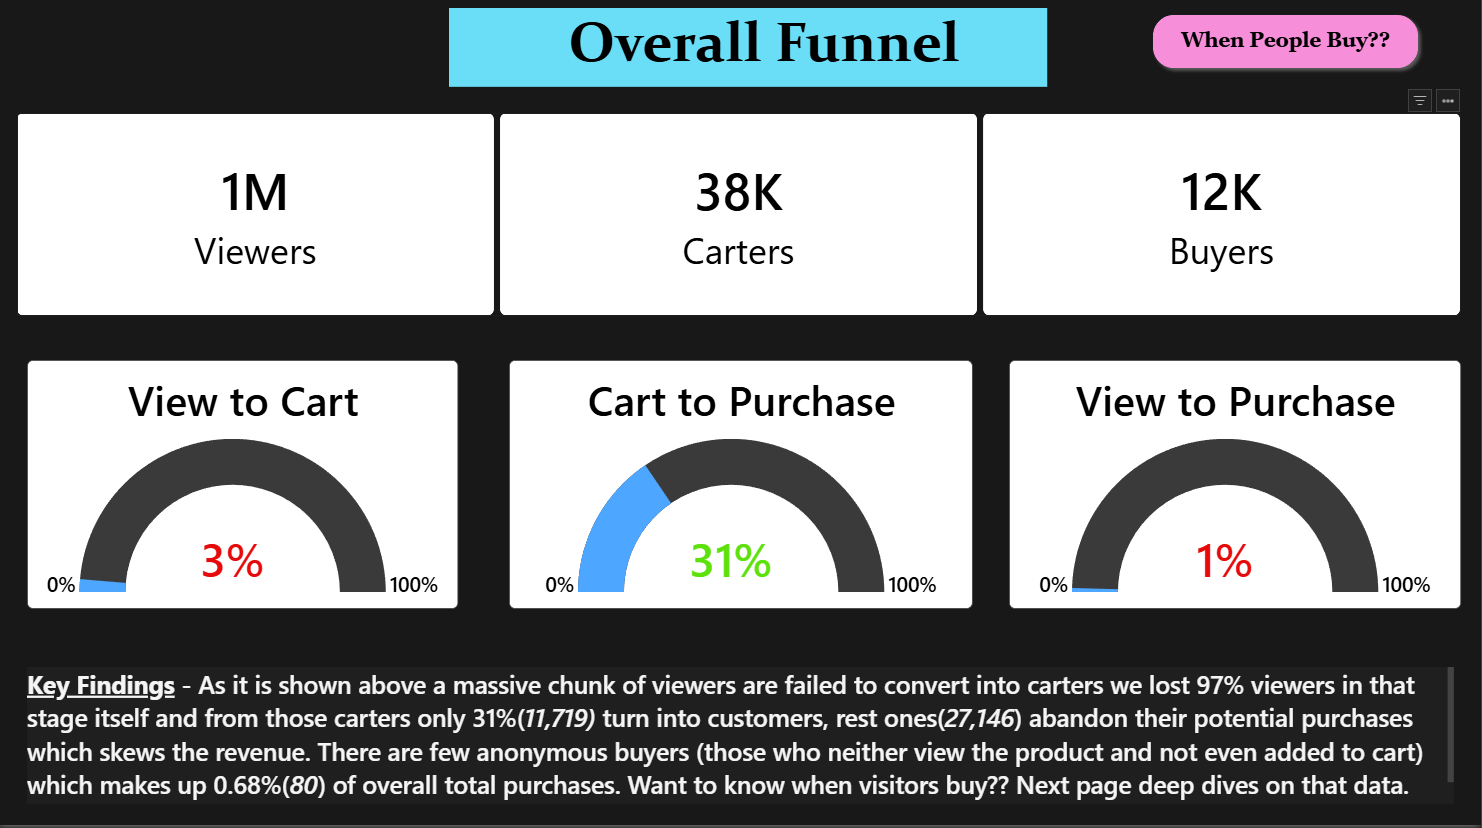

The dashboard page shown, as its layout file describes it:
{"tool":"powerbi","page":{"name":"Funnel Overview","canvas":[1920,1080],"ordinal":0},"visuals":[{"type":"cardVisual","fields":{"Data":["Sum(funnel_overall.viewers)","Sum(funnel_overall.carters)","Sum(funnel_overall.buyers)"]},"box":[25.9,157.8,1868.2,262.6],"z":0},{"type":"gauge","title":"View to Cart  ","fields":{"Y":["_Measures.View to cart %"]},"box":[38.8,477.4,557.6,322.2],"z":1000},{"type":"gauge","fields":{"Y":["_Measures.Cart to Purchase"]},"box":[662.4,477.4,600.3,322.2],"z":2000},{"type":"gauge","fields":{"Y":["_Measures.View to Purchase"]},"box":[1309.3,477.4,584.8,322.2],"z":3000},{"type":"textbox","box":[38.8,874.6,1846.3,177.3],"z":4000},{"type":"textbox","box":[584.8,22,773.7,102.2],"z":5000},{"type":"actionButton","box":[1486.6,22,361,86.7],"z":6000}]}

Visuals, with their boxes in screenshot pixels (x1, y1, x2, y2), scaled from the page's 1920x1080 canvas onto the 1482x828 screenshot:
cardVisual - Sum(funnel_overall.viewers) x Sum(funnel_overall.carters): (20,121,1462,322)
"View to Cart  " gauge: (30,366,460,613)
gauge - _Measures.Cart to Purchase: (511,366,975,613)
gauge - _Measures.View to Purchase: (1011,366,1462,613)
textbox: (30,671,1455,806)
textbox: (451,17,1049,95)
actionButton: (1147,17,1426,83)
